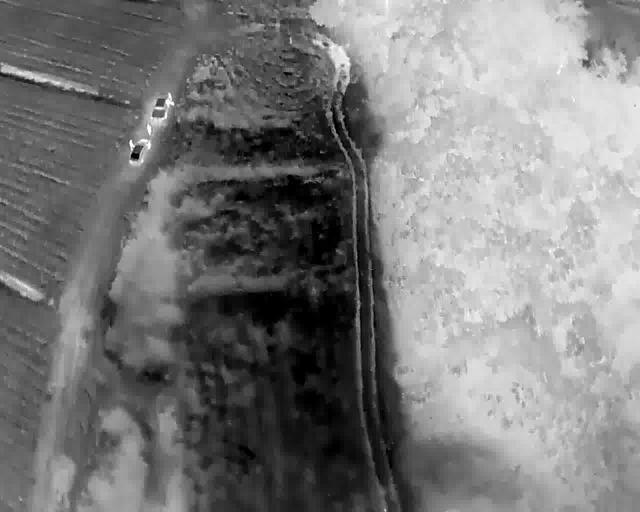car: (132, 80, 152, 104), (152, 43, 174, 64)
person: (150, 72, 155, 83), (129, 84, 134, 94), (169, 39, 172, 45)
